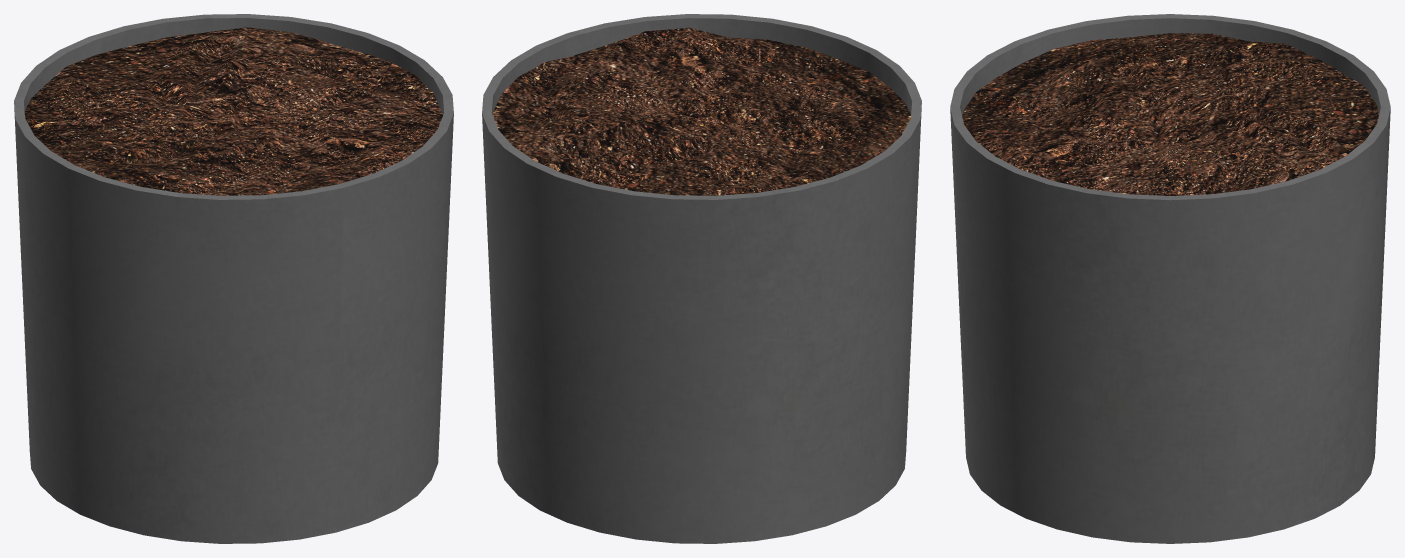
Rendered from 20secPlant.glb.
The picture shows the model from 3 angles, left to right: view 1: azimuth 30°, elevation 25°; view 2: azimuth 150°, elevation 25°; view 3: azimuth 270°, elevation 25°; orthographic projection.
Parts seen in each view (by area): view 1: Mesh_0; view 2: Mesh_0; view 3: Mesh_0.
Part boxes in pixels (left/top/right/bottom): Mesh_0: left=14, top=14, right=453, bottom=543; Mesh_0: left=482, top=14, right=921, bottom=543; Mesh_0: left=950, top=14, right=1390, bottom=543.
Size of what is drawn, in the model's own units: 2.74 by 2.45 by 2.74.
Materials: 1 (1 with a texture image).
